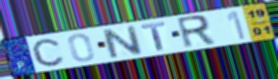0: (67, 33, 97, 63)
1: (226, 9, 248, 41)
C: (30, 38, 66, 67)
N: (99, 24, 146, 60)
R: (175, 14, 218, 50)
T: (139, 21, 167, 52)
